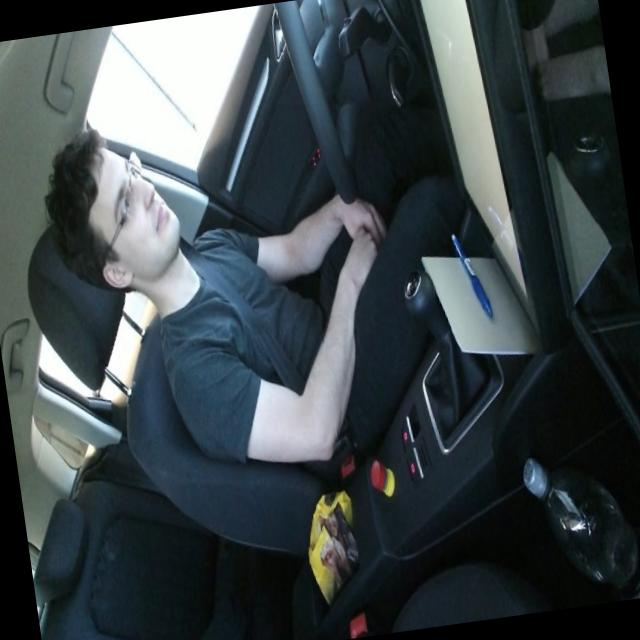pen: (449, 226, 494, 323)
